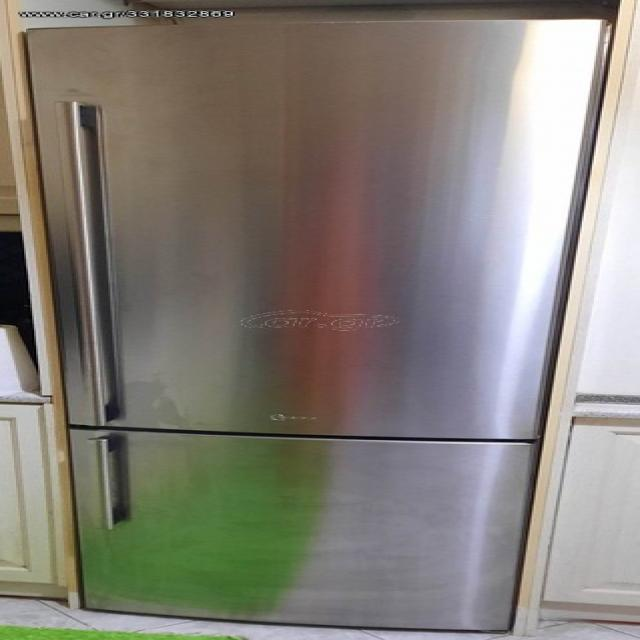refrigerator: (23, 20, 594, 639)
